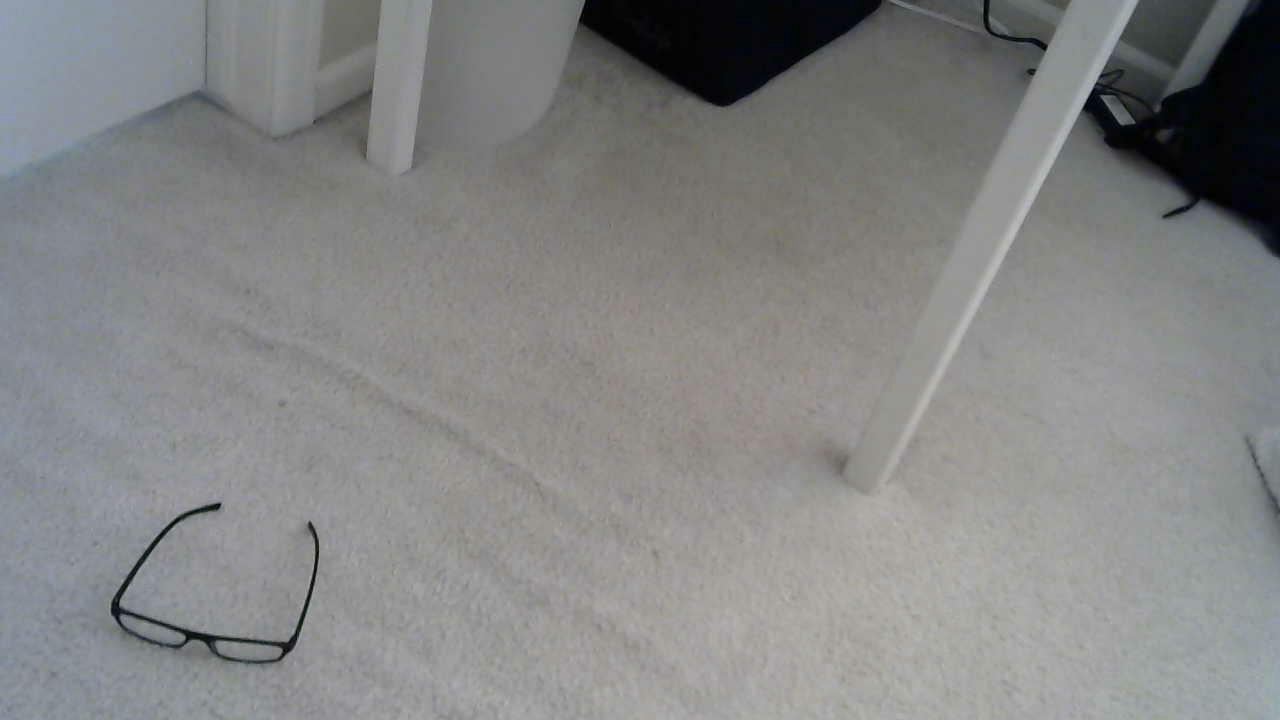Glasses: (104, 472, 360, 690)
